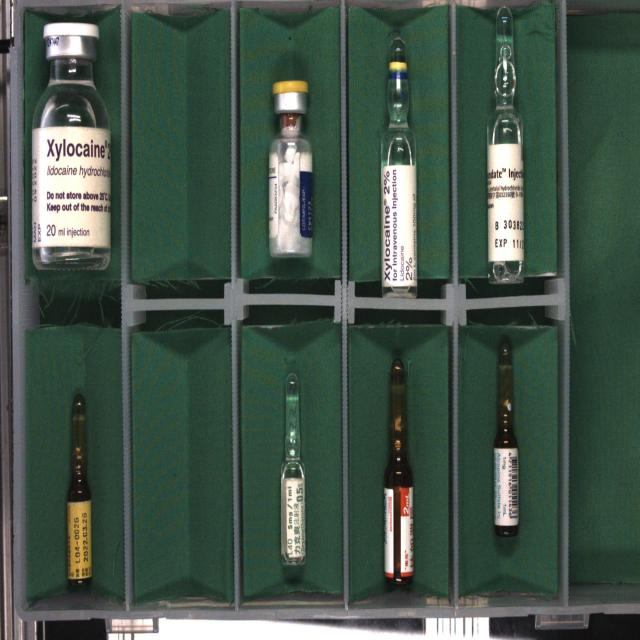Vials: (32, 23, 110, 269), (269, 80, 312, 257)
